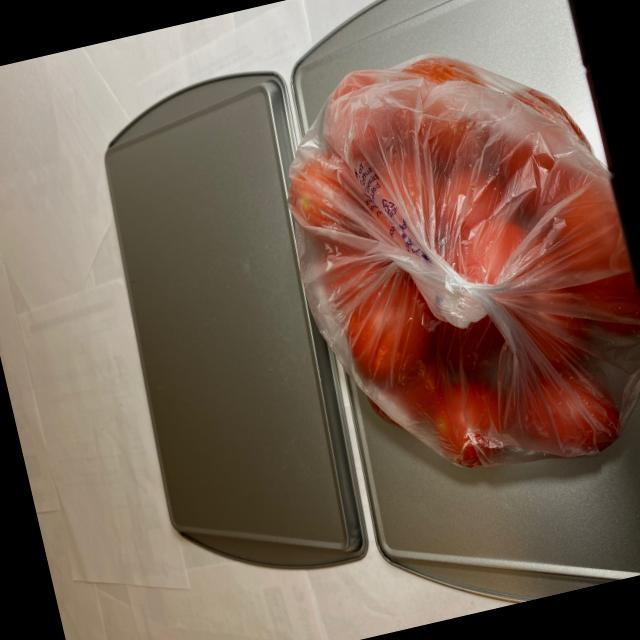tomato: (269, 23, 640, 509)
